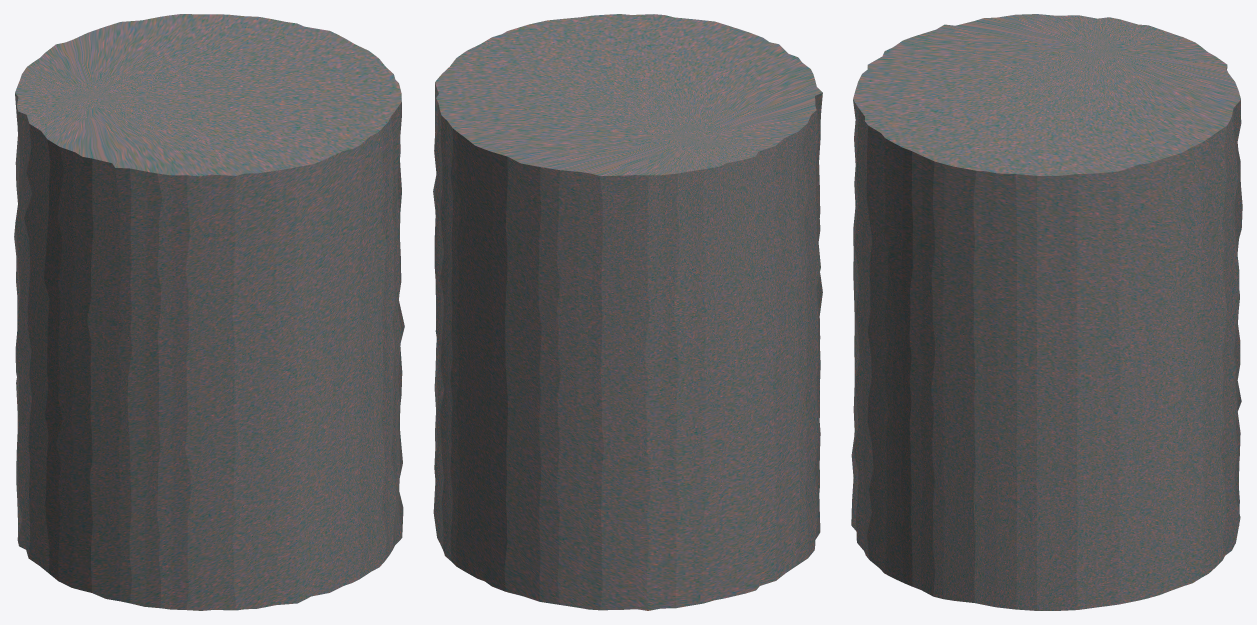
Rendered from barrel_12.dae.
The picture shows the model from 3 angles, left to right: view 1: azimuth 30°, elevation 25°; view 2: azimuth 150°, elevation 25°; view 3: azimuth 270°, elevation 25°; orthographic projection.
Parts seen in each view (by area): view 1: Cylinder; view 2: Cylinder; view 3: Cylinder.
Boxes of the visible parts, x1,y1,x2,y2 form: Cylinder: (14,14,404,610); Cylinder: (433,14,822,610); Cylinder: (851,14,1242,610).
Bounding box in the file's own units: 0.816 × 0.8159 × 1.
Materials: 1 (1 with a texture image).
